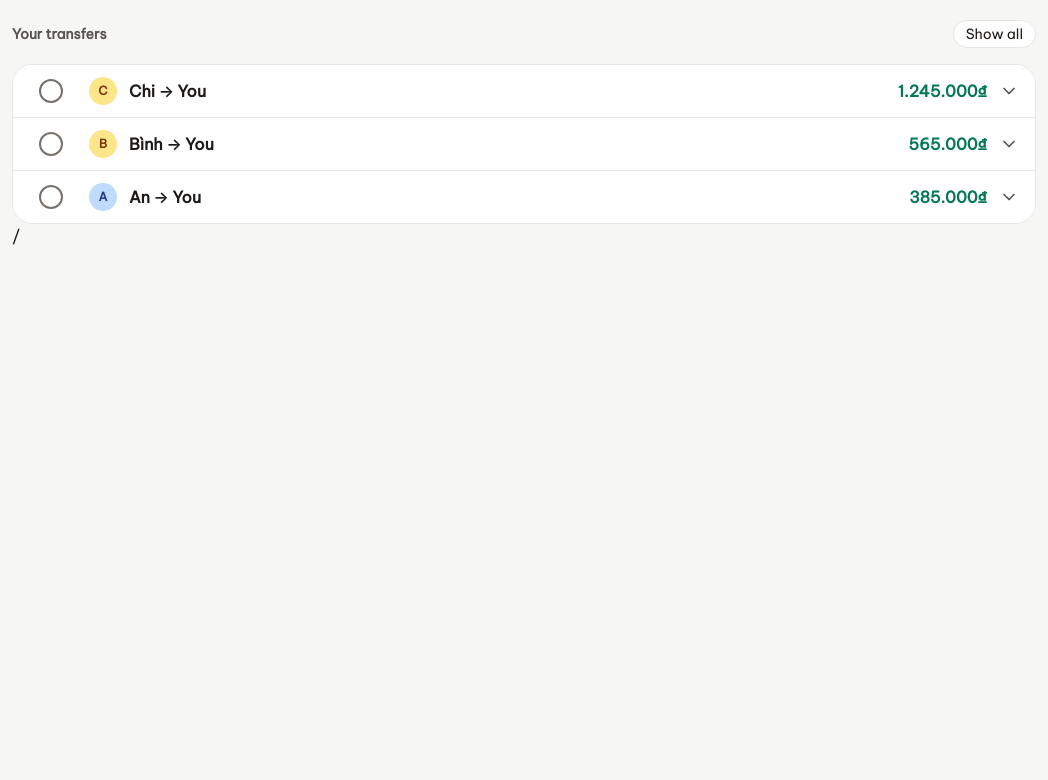
Your transfers: tick to confirm › Undo cancels the tick
Step 1. Click the button named "Mark 385.000₫ from An as received" → point(51, 197), box left=29, top=175, right=73, bottom=219
Wait 2000 ms
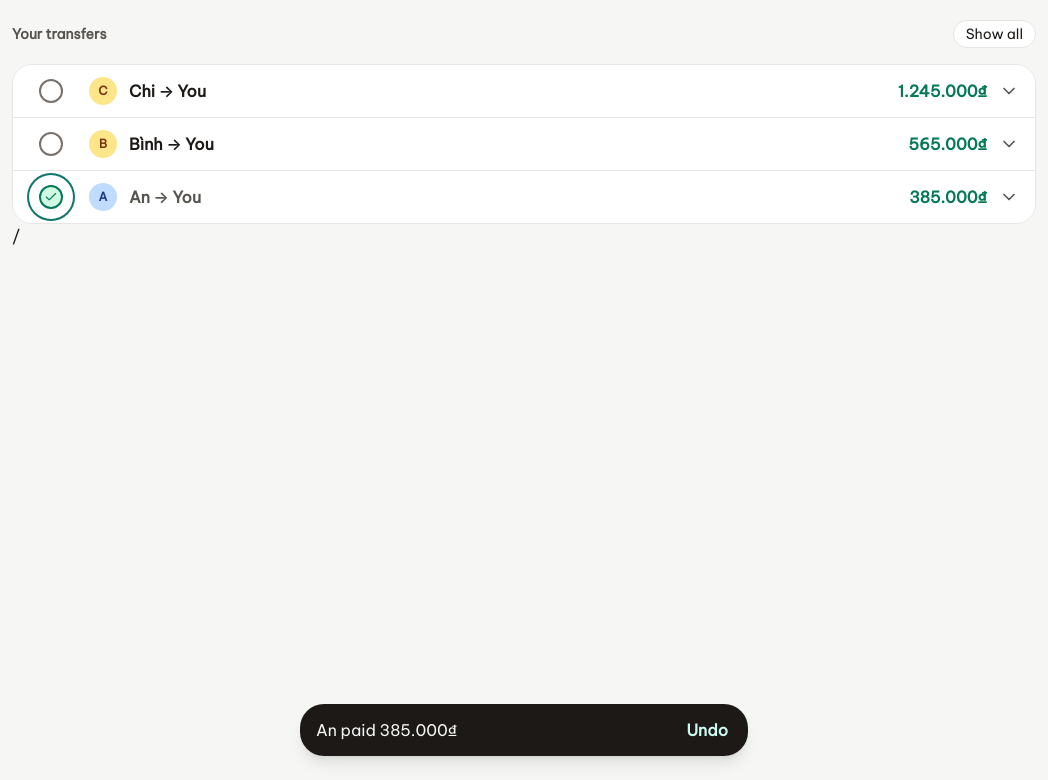
Step 2. Click the button "Undo" → point(707, 730), box left=674, top=708, right=740, bottom=752
Wait 10000 ms
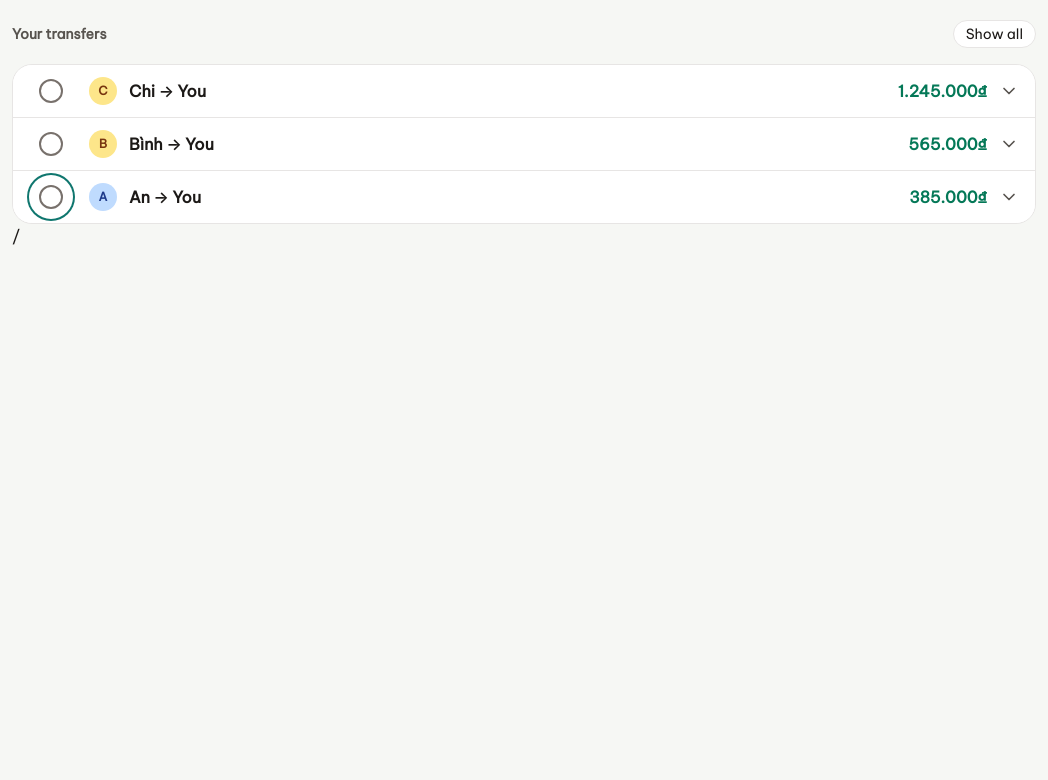
Result: the message "An paid 385.000₫ Undo" is gone
# Tapping the ticked circle again is an undo too.
Step 3. Click the button named "Mark 385.000₫ from An as received" → point(51, 197), box left=29, top=175, right=73, bottom=219
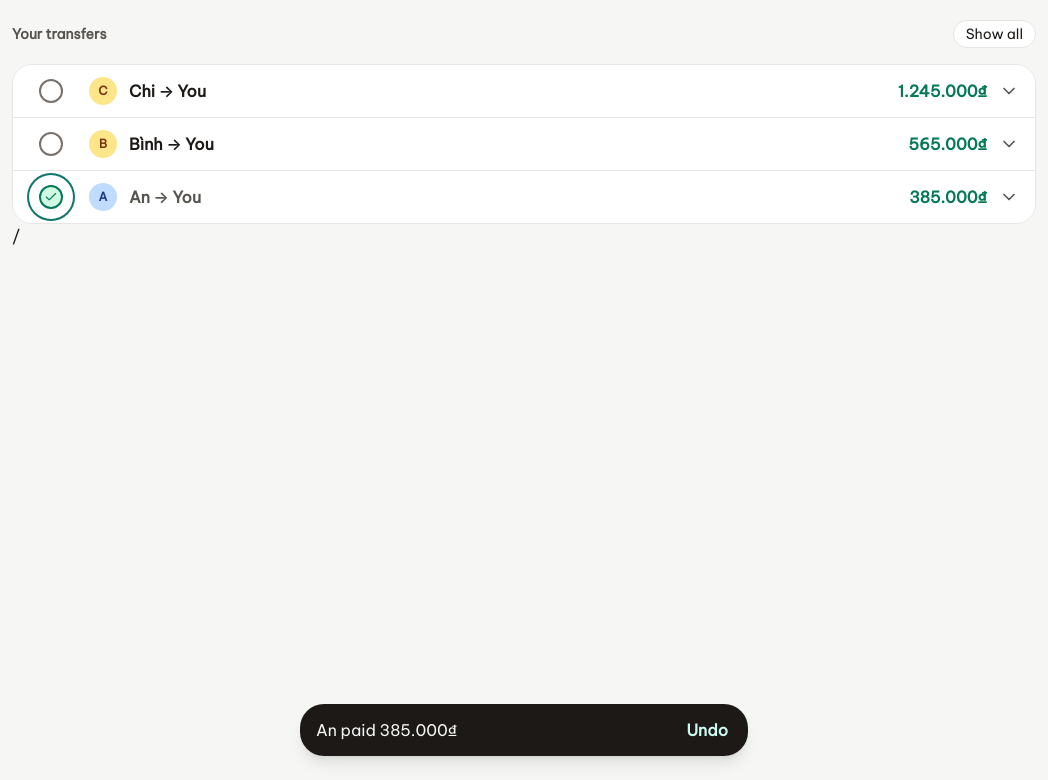
Step 4. Click the button named "Mark 385.000₫ from An as received" → point(51, 197), box left=29, top=175, right=73, bottom=219
Wait 10000 ms
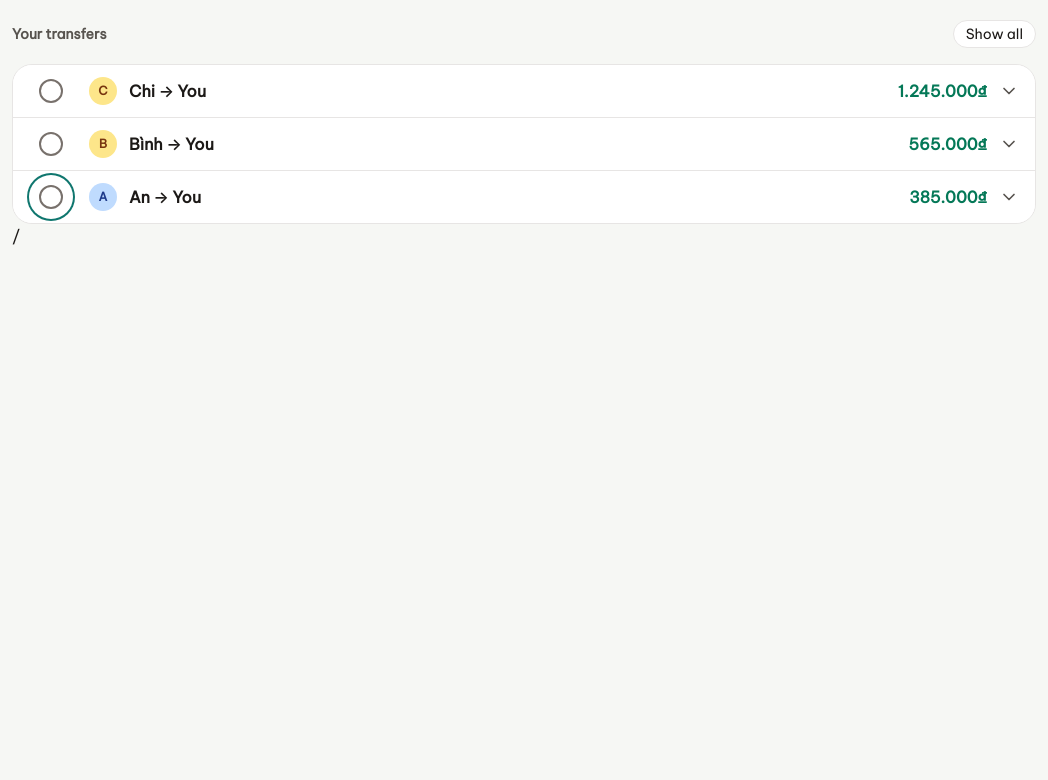
Result: the message "An paid 385.000₫ Undo" is gone
